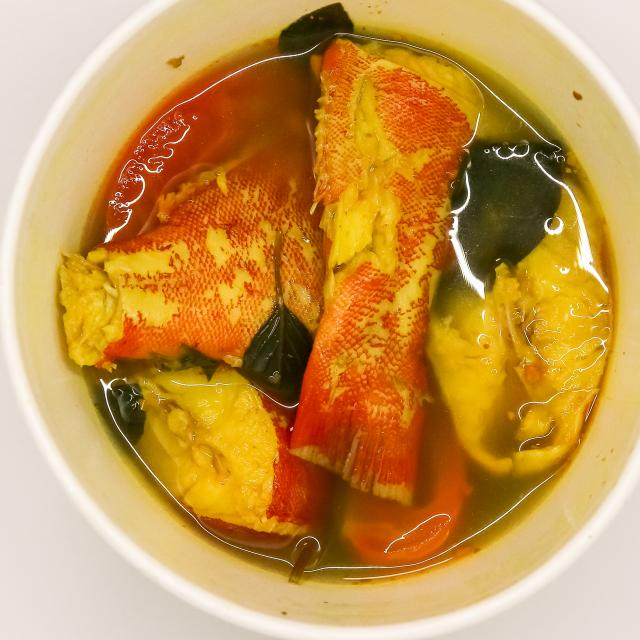Gulai-Ikan-Mas: (39, 18, 629, 571)
